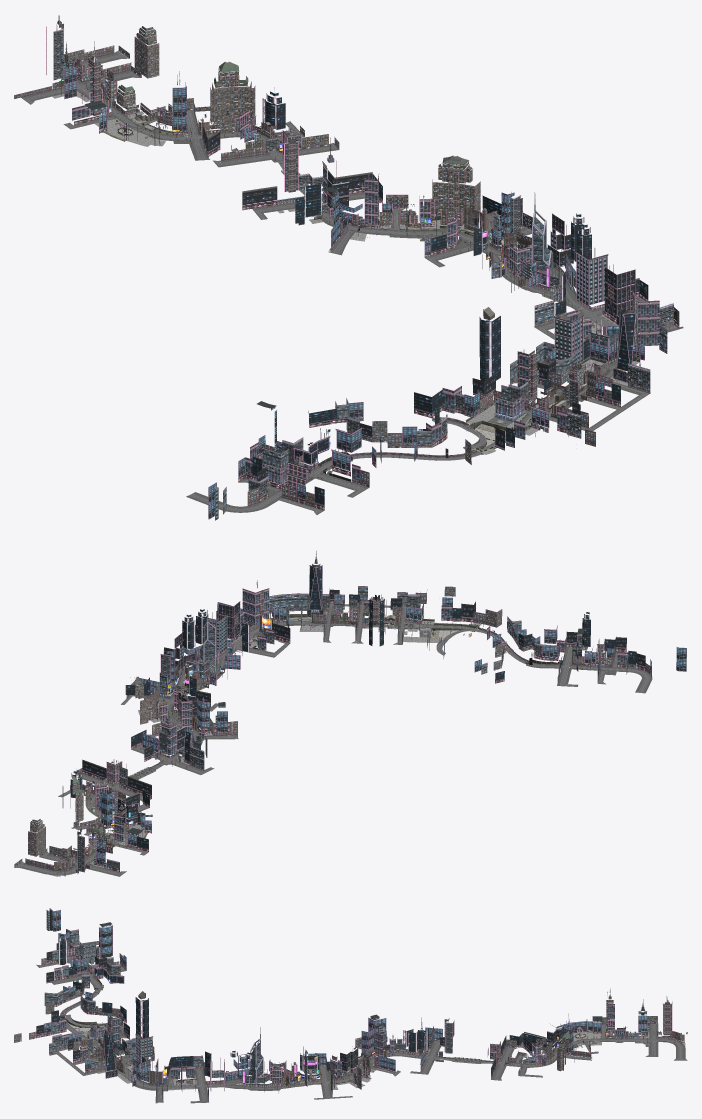
Rendered from final_region03_thesquare.glb.
3 renders of one model, top to bottom at view 1: azimuth 30°, elevation 25°; view 2: azimuth 150°, elevation 25°; view 3: azimuth 270°, elevation 25°, orthographic. The views are drawn at different scales.
Visible parts, largest first — view 1: Mesh/region03_env/environment_background/MergeGroup-building (×19), Mesh/region03_env/environment_background_downres/MergeGroup- (×11), Mesh/region03_env/environment_background/MergeGroup-ground_s (×2); view 2: Mesh/region03_env/environment_background/MergeGroup-building (×16), Mesh/region03_env/environment_background_downres/MergeGroup- (×13), Mesh/region03_env/environment_background/MergeGroup-ground_s; view 3: Mesh/region03_env/environment_background/MergeGroup-building (×19), Mesh/region03_env/environment_background_downres/MergeGroup- (×12), Mesh/region03_env/environment_background/MergeGroup-pavement.
Part boxes in pixels (x1,y1,x2,y2): Mesh/region03_env/environment_background/MergeGroup-building (×19): (46,23,673,498); Mesh/region03_env/environment_background_downres/MergeGroup- (×11): (64,26,679,510); Mesh/region03_env/environment_background/MergeGroup-ground_s (×2): (94,113,526,454); Mesh/region03_env/environment_background/MergeGroup-building (×16): (75,564,651,874); Mesh/region03_env/environment_background_downres/MergeGroup- (×13): (14,586,626,871); Mesh/region03_env/environment_background/MergeGroup-ground_s: (403,622,481,643); Mesh/region03_env/environment_background/MergeGroup-building (×19): (56,929,672,1101); Mesh/region03_env/environment_background_downres/MergeGroup- (×12): (36,908,591,1100); Mesh/region03_env/environment_background/MergeGroup-pavement: (636,1036,687,1060).
Bounding box in the file's own units: 1441 × 231 × 2360.
Materials: 35 (35 with a texture image).
